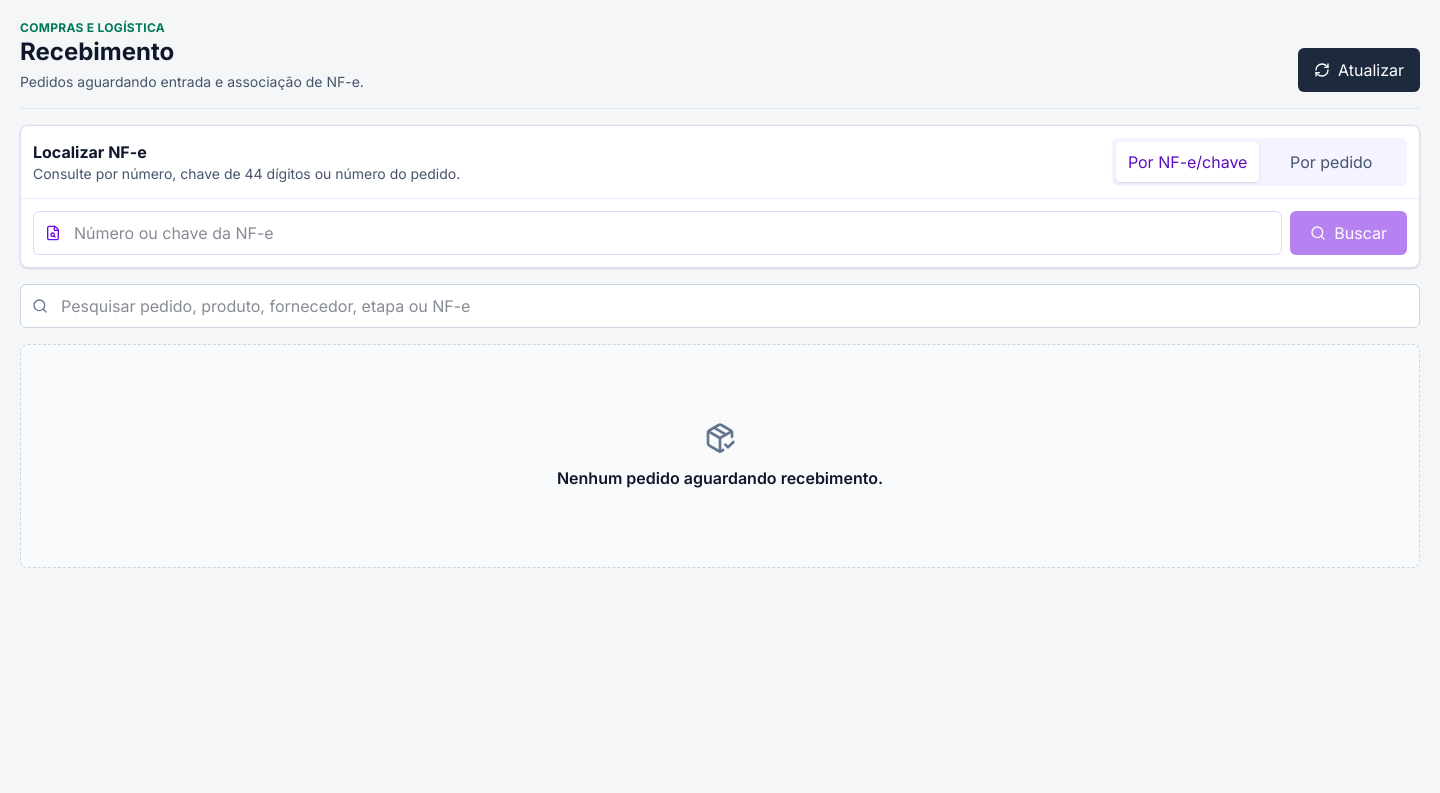
Test: ReceivingScreen states › localiza NF-e, ordena sugestões deterministicamente e abre a prévia do pedido escolhido
The image size is (1440, 793).
Type "372" into the field with placeholder "Número ou chave da NF-e" at {"x": 658, "y": 233}, box 33,211 -> 1282,255
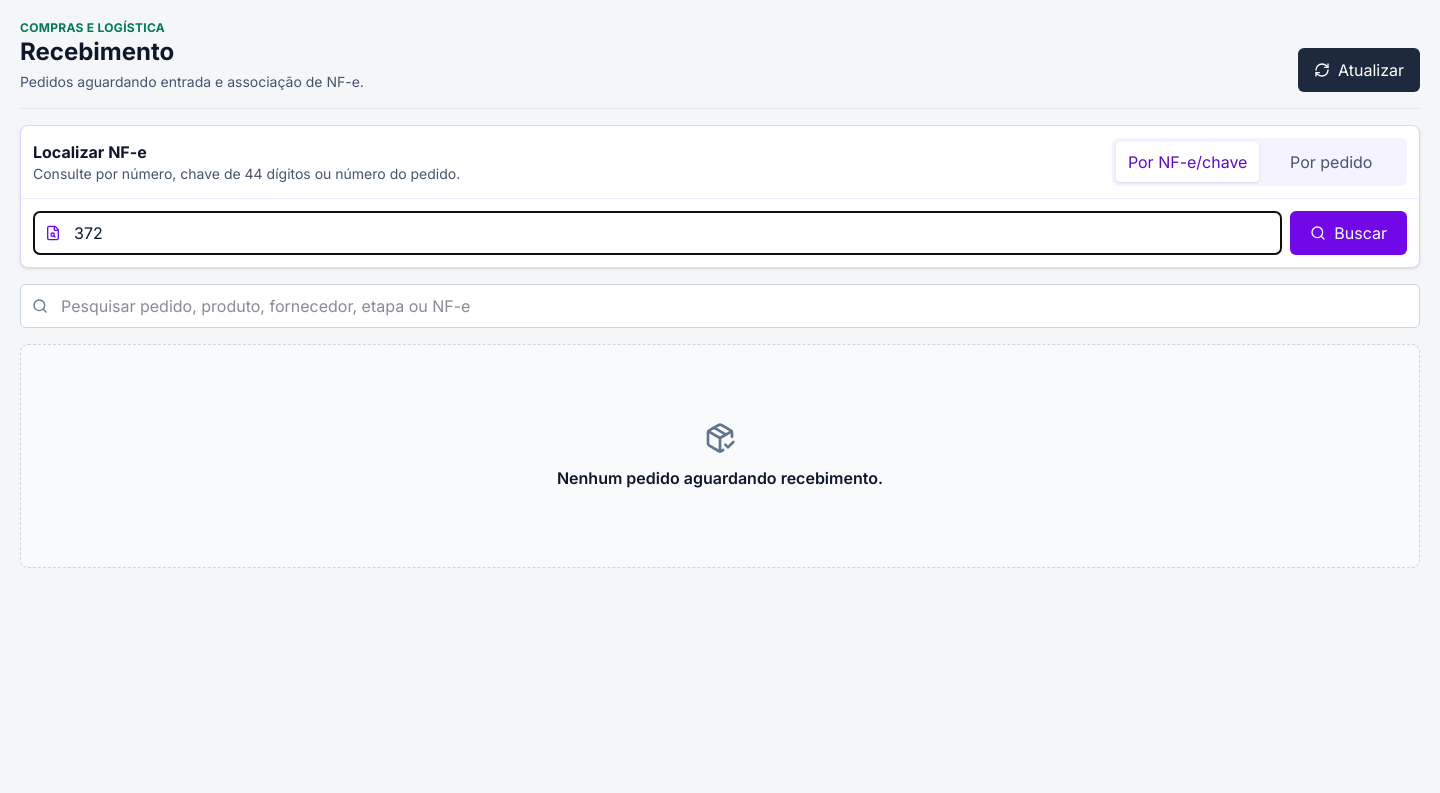
Click the button "Buscar" at {"x": 1349, "y": 233}, box 1290,211 -> 1407,255
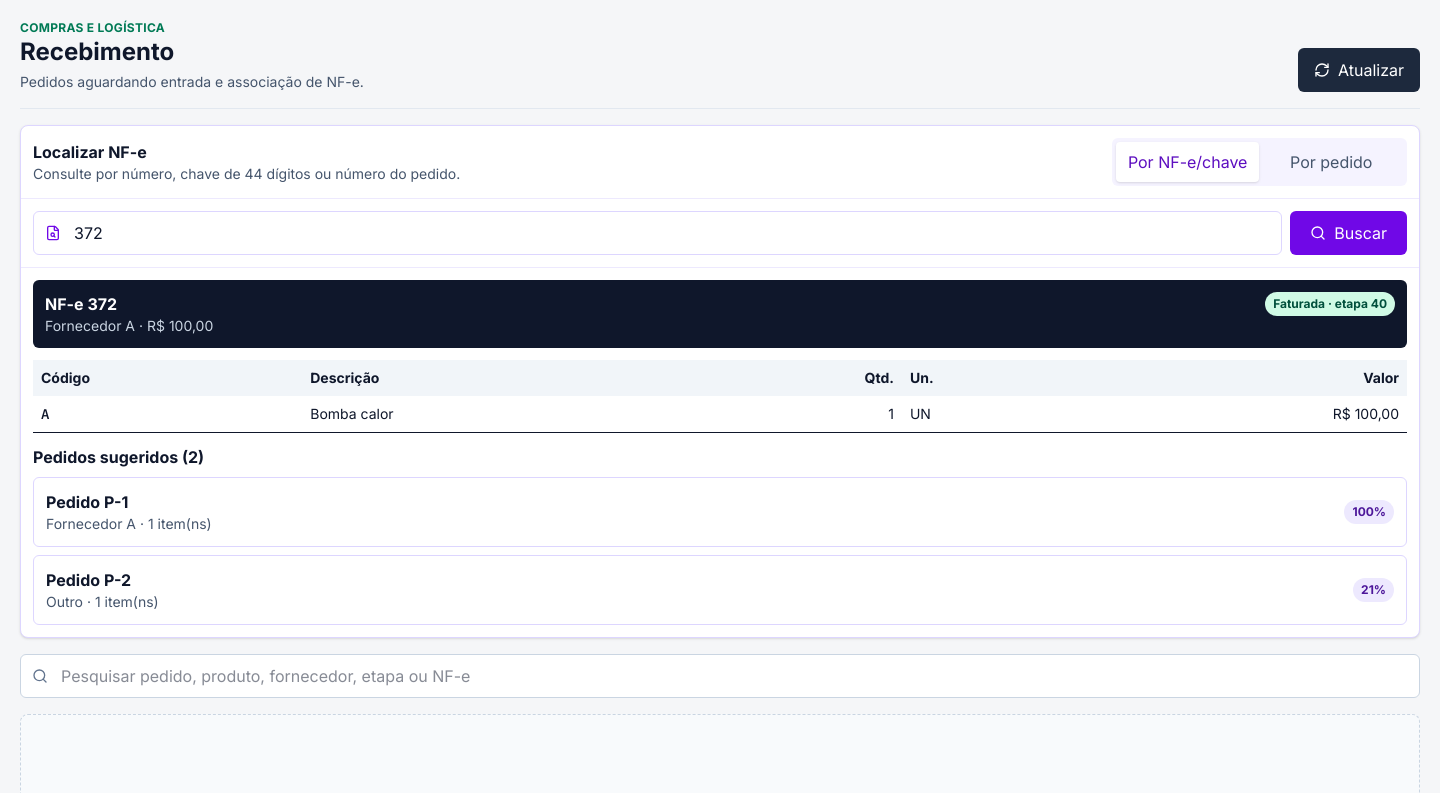
Expected: the button "Pedido P-1 Fornecedor A · 1 item(ns) 100%" is shown
Click the button "Pedido P-1 Fornecedor A · 1 item(ns) 100%" at {"x": 75, "y": 502}, box 33,477 -> 1407,547
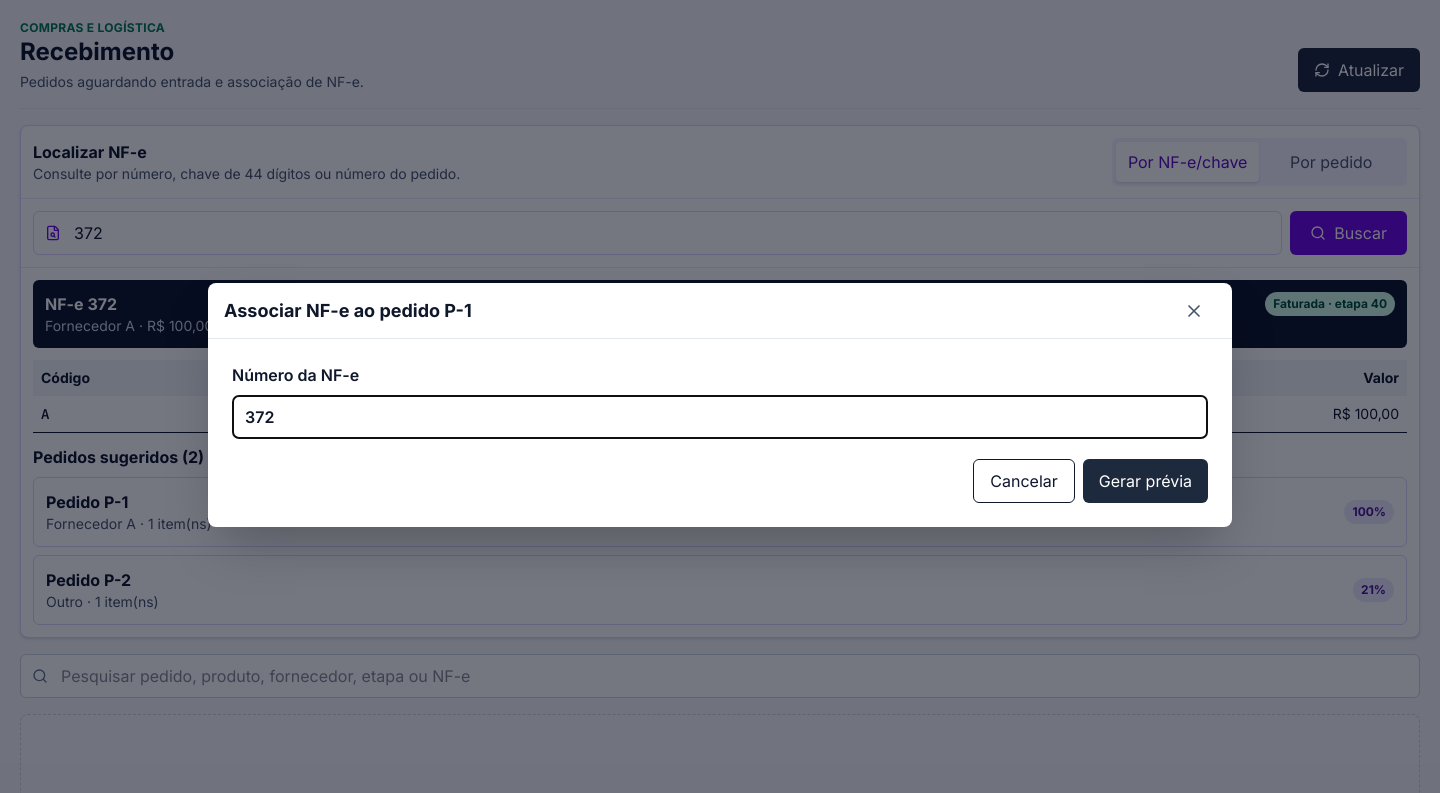
Expected: the dialog "Associar NF-e ao pedido P-1" is shown, 208,283 -> 1232,527
Expected: the field labelled "Número da NF-e" holds "372", 232,395 -> 1208,439
